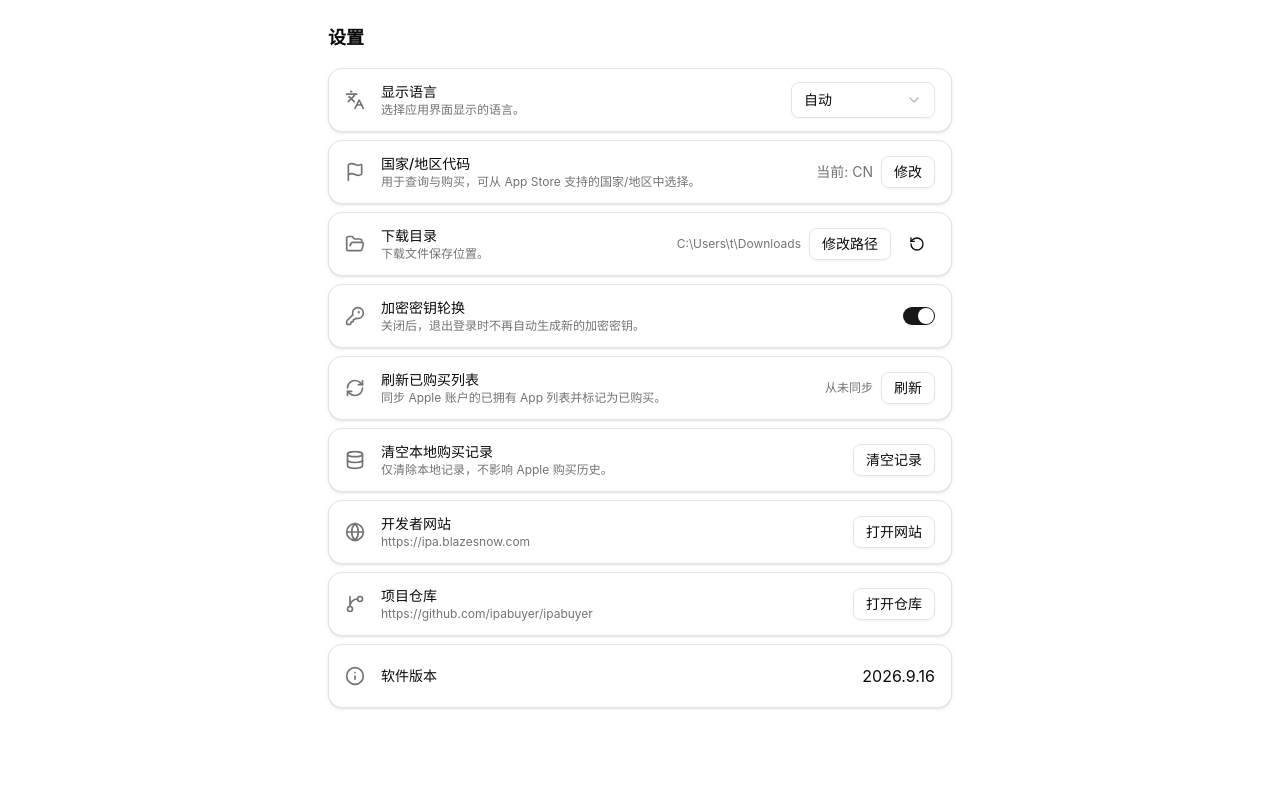
SettingsPage › 清空本地购买记录：确认对话框显示当前记录数
Expected: the text "国家/地区代码" is shown, x1=381 y1=155 x2=470 y2=172
Expected: the text "清空本地购买记录" is shown, x1=381 y1=443 x2=493 y2=460
Click the button "清空记录" at [894, 460], box x1=853 y1=444 x2=935 y2=476
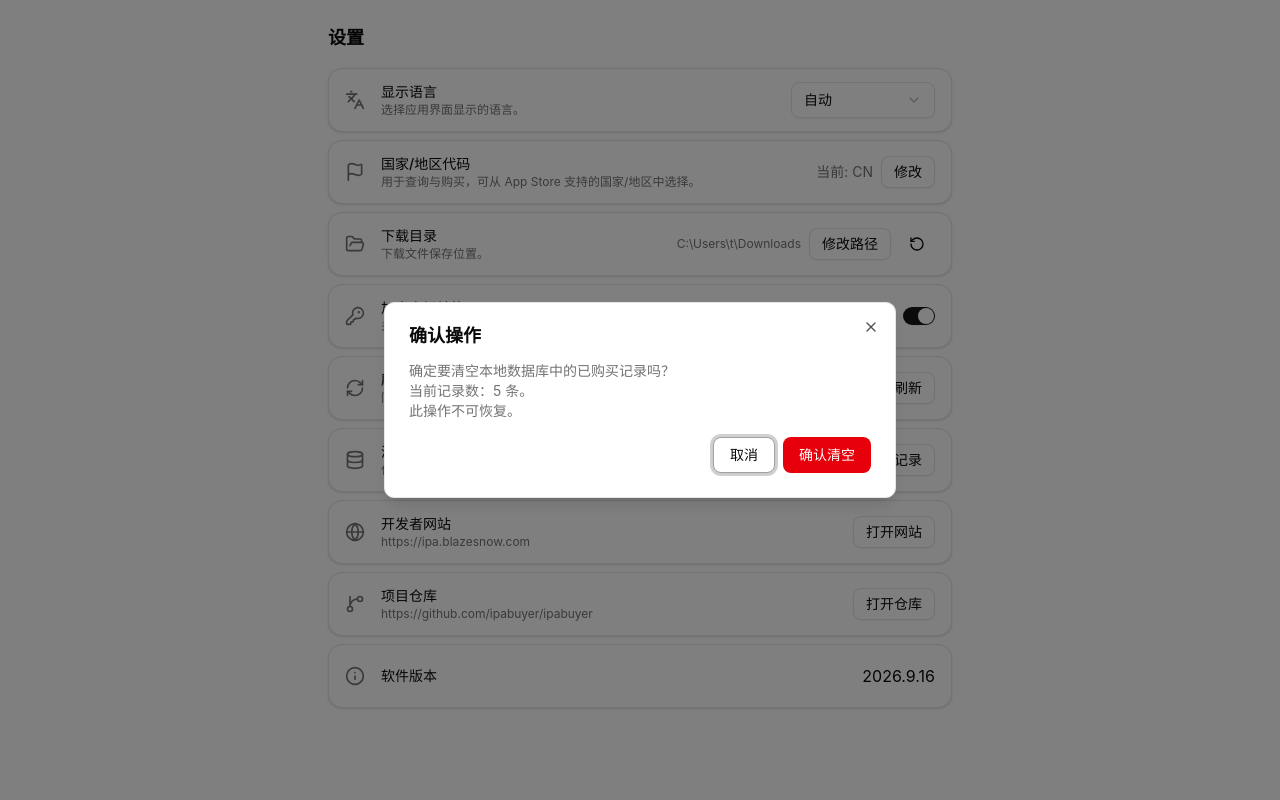
Expected: the heading "确认操作" is shown, x1=409 y1=325 x2=481 y2=346
Expected: the text "确定要清空本地数据库中的已购买记录吗？ 当前记录数：5 条。 此操作不可恢复。" is shown, x1=409 y1=362 x2=675 y2=419
